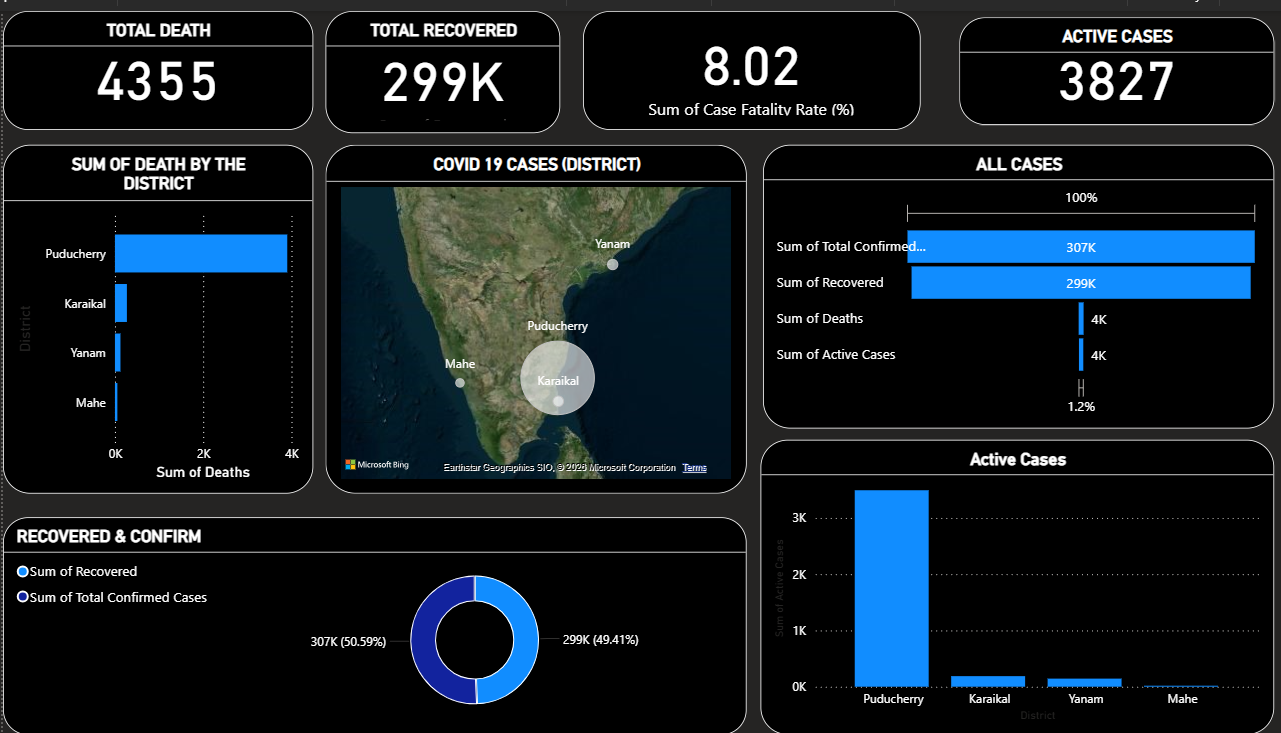

Layout of this report page (visuals, bound fields, positions):
{"tool":"powerbi","page":{"name":"Page 1","canvas":[1280,720],"ordinal":0},"visuals":[{"type":"map","title":"COVID 19 CASES (DISTRICT)","fields":{"Category":["Sheet1.District"],"Size":["Sum(Sheet1.Total Confirmed Cases)"]},"box":[320.9,133.1,419.2,347.1],"z":0},{"type":"donutChart","title":"RECOVERED & CONFIRM","fields":{"Y":["Sum(Sheet1.Recovered)","Sum(Sheet1.Total Confirmed Cases)"]},"box":[0,503.8,740.2,216.4],"z":1000},{"type":"barChart","title":"SUM OF DEATH BY THE DISTRICT","fields":{"Y":["Sum(Sheet1.Deaths)"],"Category":["Sheet1.District"]},"box":[0,133.1,308.5,347.1],"z":2000},{"type":"card","title":"TOTAL DEATH","fields":{"Values":["Sum(Sheet1.Deaths)"]},"box":[0,0,308.5,118.2],"z":2001},{"type":"card","title":"TOTAL RECOVERED","fields":{"Values":["Sum(Sheet1.Recovered)"]},"box":[320.9,0,233.9,121.9],"z":2002},{"type":"columnChart","title":"Active Cases ","fields":{"Category":["Sheet1.District"],"Y":["Sum(Sheet1.Active Cases)"]},"box":[753.8,426.7,511.3,293.6],"z":2003},{"type":"funnel","title":"ALL CASES","fields":{"Y":["Sum(Sheet1.Total Confirmed Cases)","Sum(Sheet1.Recovered)","Sum(Sheet1.Deaths)","Sum(Sheet1.Active Cases)"]},"box":[756.3,133.1,508.8,282.4],"z":2004},{"type":"card","title":"ACTIVE CASES","fields":{"Values":["Sum(Sheet1.Active Cases)"]},"box":[951.6,6.2,313.5,107],"z":2005},{"type":"card","fields":{"Values":["Sum(Sheet1.Case Fatality Rate (%))"]},"box":[577.2,0,335.9,118.2],"z":2006}]}

Visuals, with their boxes in screenshot pixels (x1, y1, x2, y2), scaled from the page's 1280x720 canvas onto the 1281x733 screenshot:
"COVID 19 CASES (DISTRICT)" map: box(321, 136, 741, 489)
"RECOVERED & CONFIRM" donutChart: box(0, 513, 741, 732)
"SUM OF DEATH BY THE DISTRICT" barChart: box(0, 136, 309, 489)
"TOTAL DEATH" card: box(0, 0, 309, 120)
"TOTAL RECOVERED" card: box(321, 0, 555, 124)
"Active Cases " columnChart: box(754, 434, 1266, 732)
"ALL CASES" funnel: box(757, 136, 1266, 423)
"ACTIVE CASES" card: box(952, 6, 1266, 115)
card - Sum(Sheet1.Case Fatality Rate (%)): box(578, 0, 914, 120)
